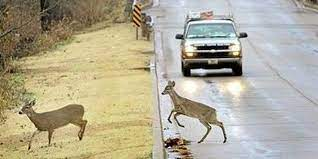deer: (161, 80, 230, 144), (20, 98, 87, 149)
